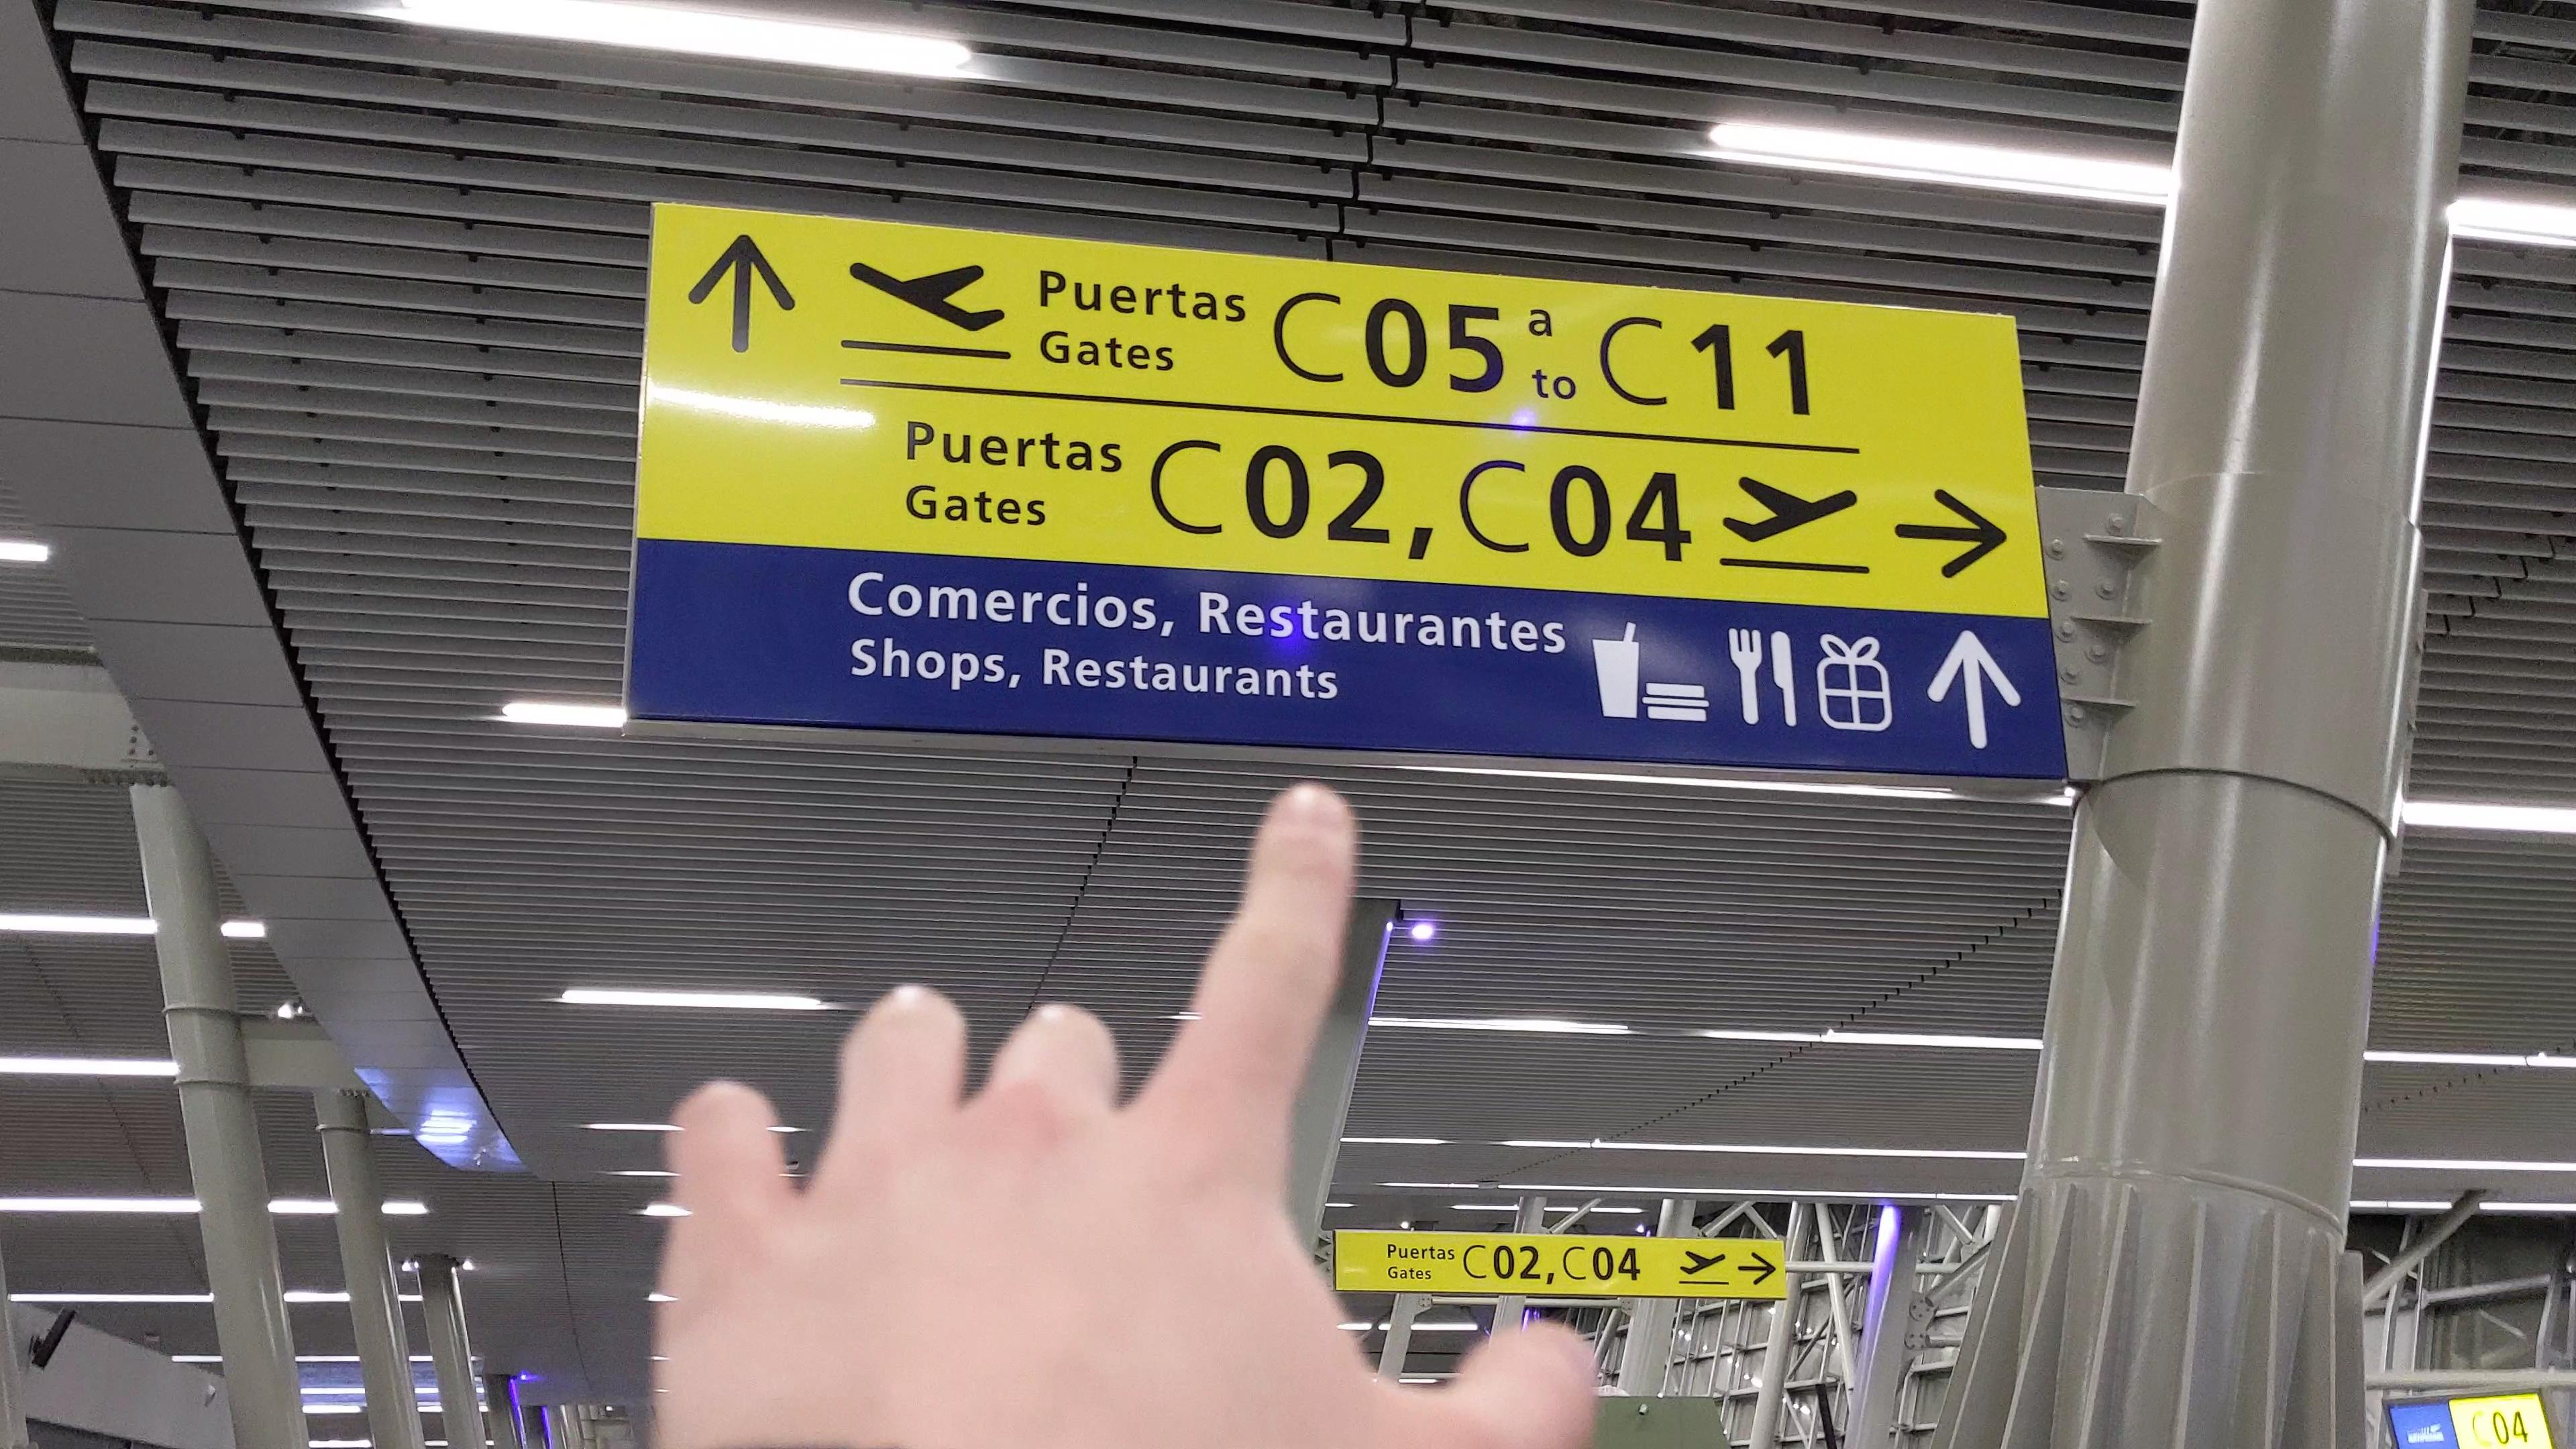airplane symbol: (840, 253, 1008, 340), (1714, 467, 1868, 548), (1677, 1249, 1729, 1277)
restaurants: (1723, 621, 1803, 731)
thin right arrow: (1886, 483, 2010, 582), (1737, 1251, 1780, 1286)
thin up arrow: (683, 234, 803, 356), (1925, 630, 2026, 752)
